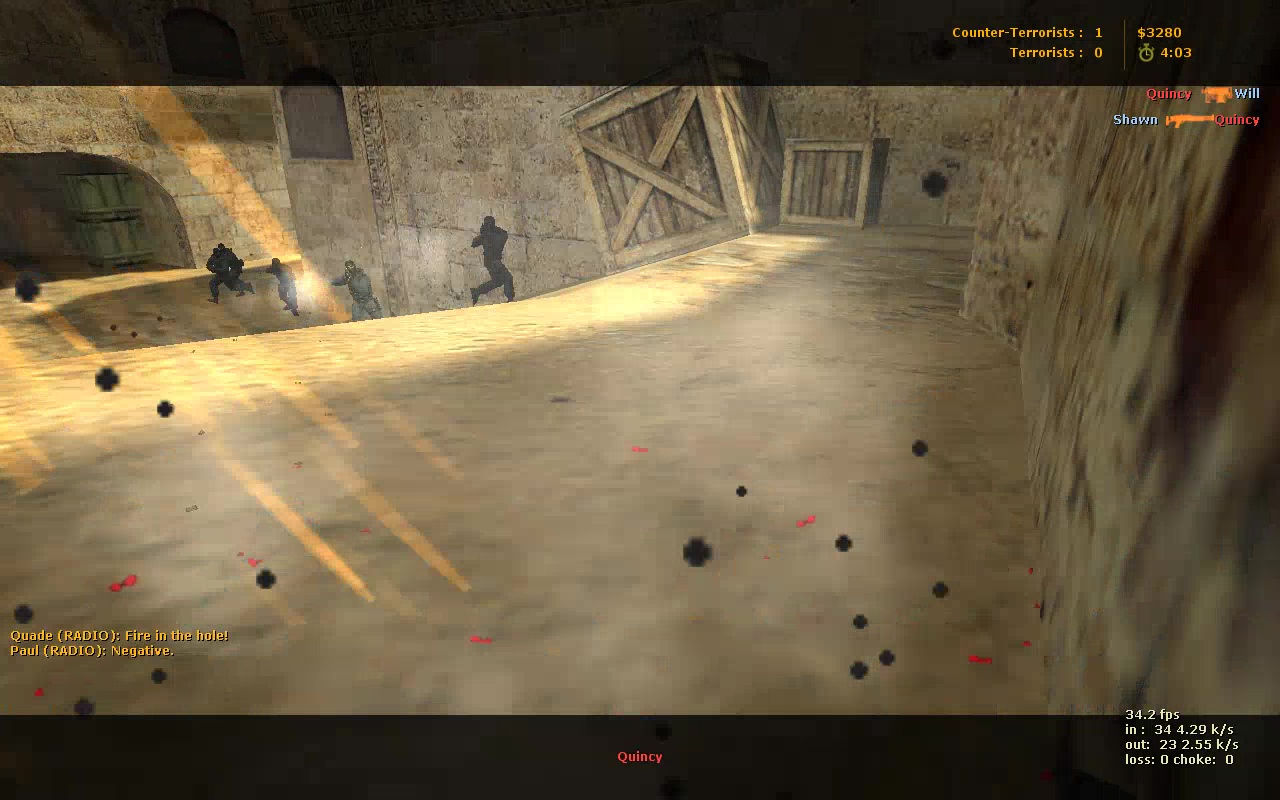ct: (468, 214, 517, 307), (333, 262, 383, 320), (208, 243, 254, 305), (268, 259, 303, 315)
